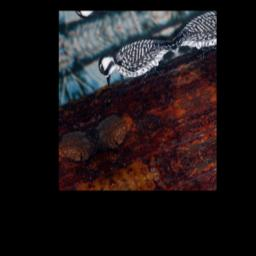Woodpecker: (91, 26, 183, 98)
